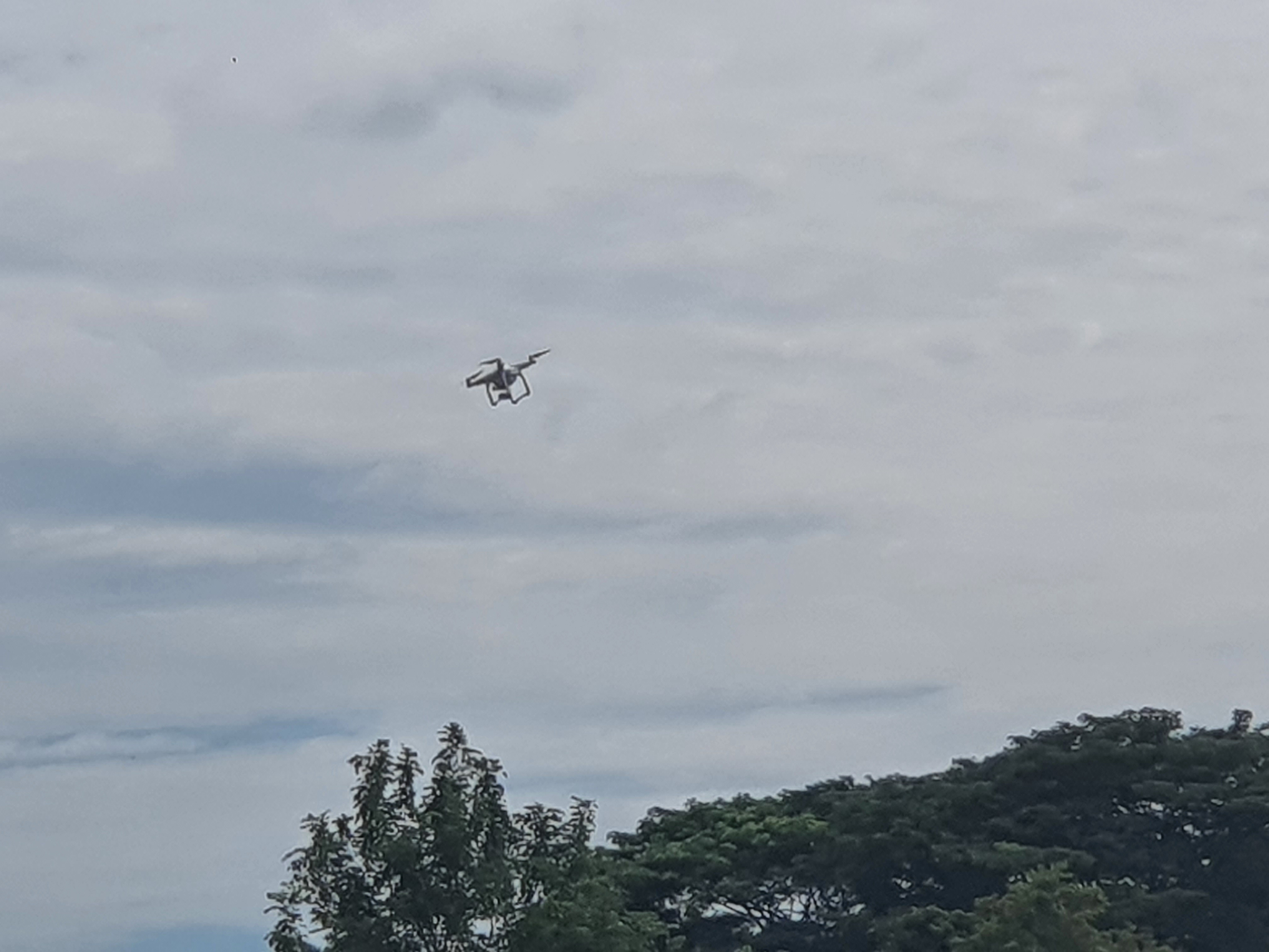drone_other: (462, 349, 559, 412)
